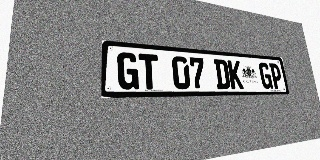0: (171, 56, 191, 89)
7: (188, 57, 207, 89)
D: (213, 59, 231, 89)
G: (117, 52, 139, 90), (258, 62, 273, 89)
K: (227, 60, 244, 89)
P: (269, 63, 283, 89)
T: (138, 53, 159, 89)
